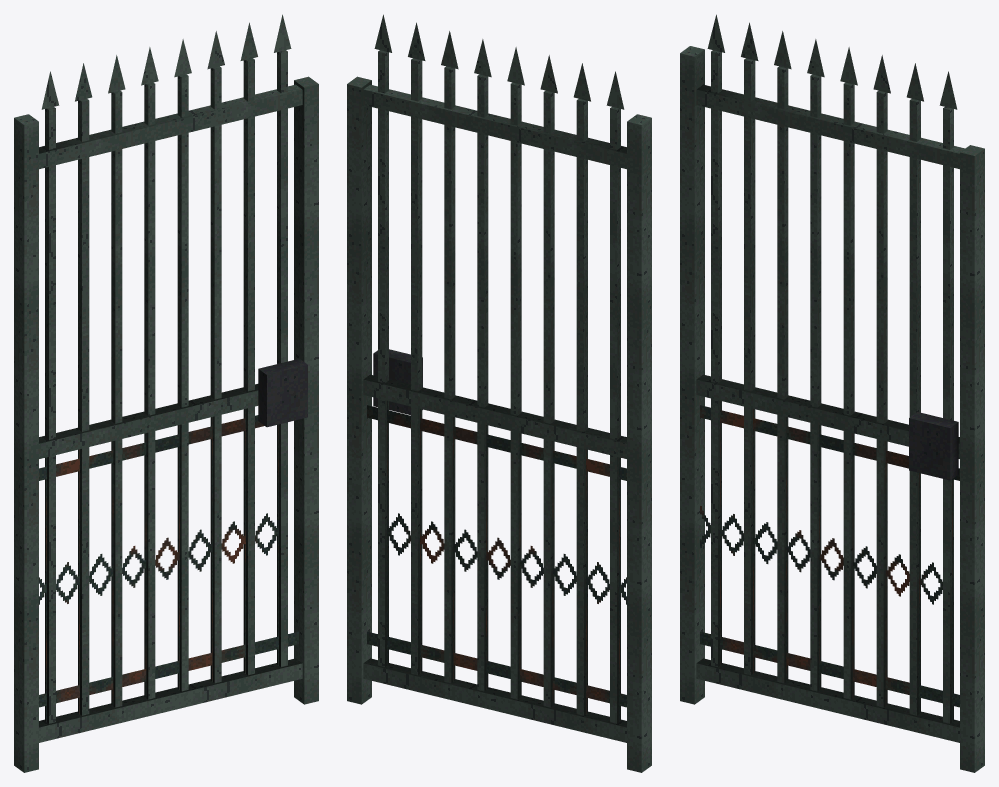
File: gate_iron.glb
3 renders of one model, left to right at view 1: azimuth 30°, elevation 25°; view 2: azimuth 150°, elevation 25°; view 3: azimuth 330°, elevation 25°, orthographic.
Parts seen in each view (by area): view 1: gate_iron_metal_paint, gate_iron_iron_gate_cut, gate_iron_metal_dark; view 2: gate_iron_metal_paint, gate_iron_iron_gate_cut, gate_iron_metal_dark; view 3: gate_iron_metal_paint, gate_iron_iron_gate_cut, gate_iron_metal_dark.
Part boxes in pixels (<box>): gate_iron_metal_paint: <box>14,14,318,772</box>; gate_iron_iron_gate_cut: <box>39,409,298,722</box>; gate_iron_metal_dark: <box>258,358,307,427</box>; gate_iron_metal_paint: <box>347,14,651,772</box>; gate_iron_iron_gate_cut: <box>367,400,626,722</box>; gate_iron_metal_dark: <box>373,349,422,415</box>; gate_iron_metal_paint: <box>680,14,984,772</box>; gate_iron_iron_gate_cut: <box>700,400,959,722</box>; gate_iron_metal_dark: <box>909,412,958,480</box>.
Size of what is drawn, in the model's own units: 1 by 2.24 by 0.1.
Materials: 3 (3 with a texture image).
